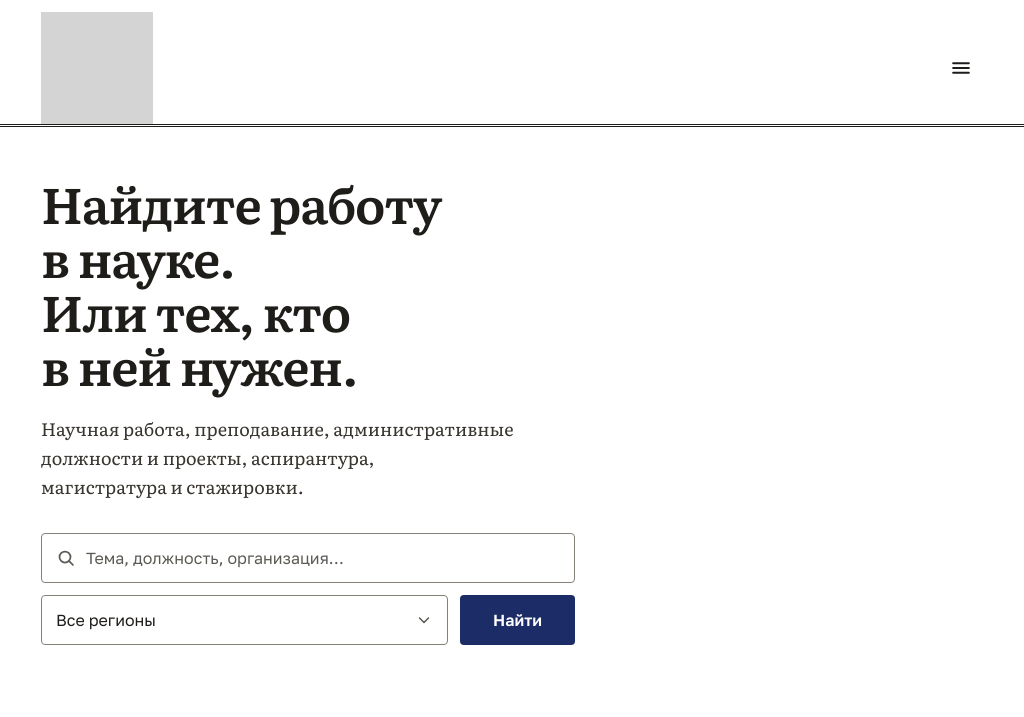
Test: site shell › closes the mobile menu after following a link
This screenshot has width=1024, height=717.
Click the button named "Открыть меню": [961, 68] box [939,46,983,90]
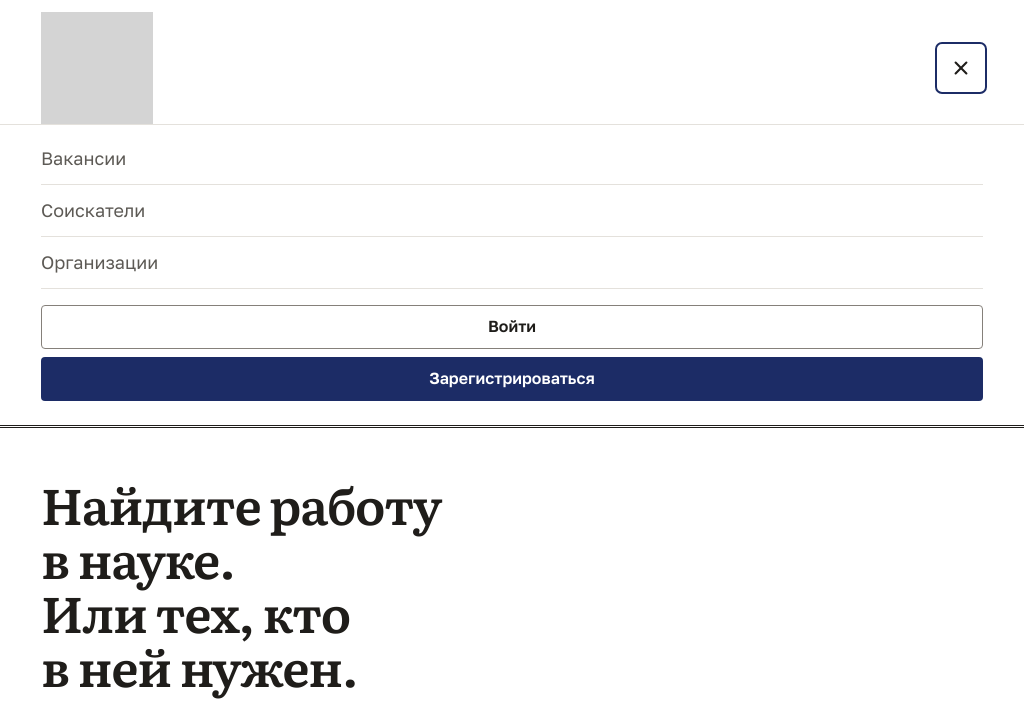
Click the link "Организации": [100, 262] box [41,237,983,289]
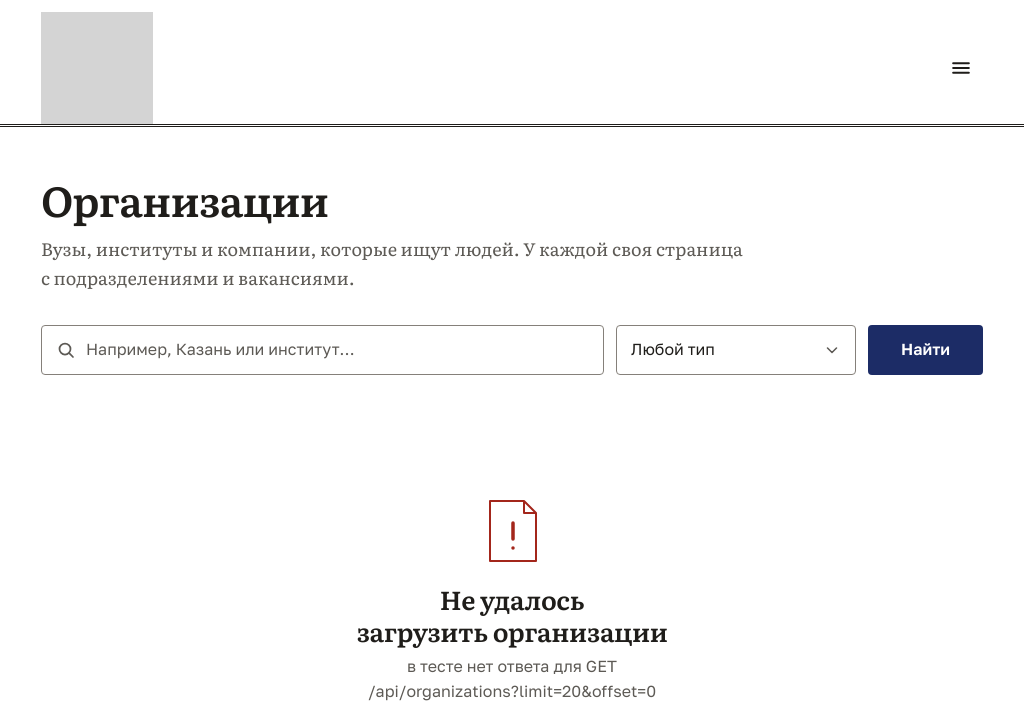
Expected: the heading "Организации" is shown, [41,168,328,230]
Expected: the button named "Открыть меню" is collapsed, [939,46,983,90]
